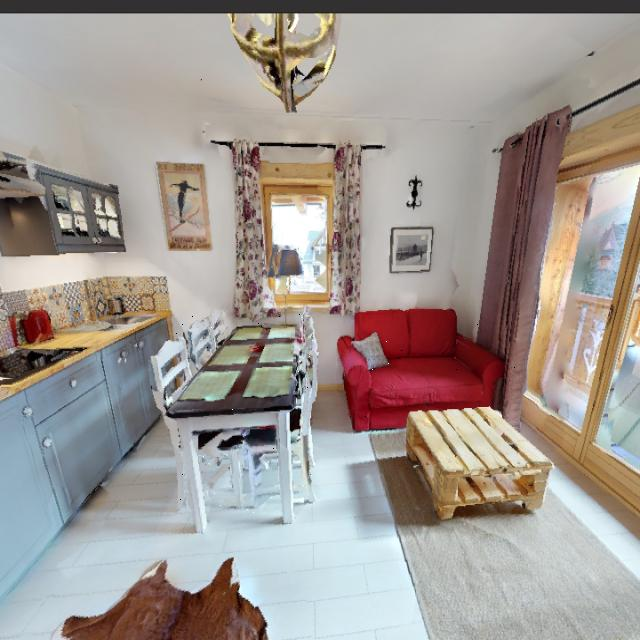sofa: (335, 295, 515, 435)
table: (169, 302, 321, 515)
